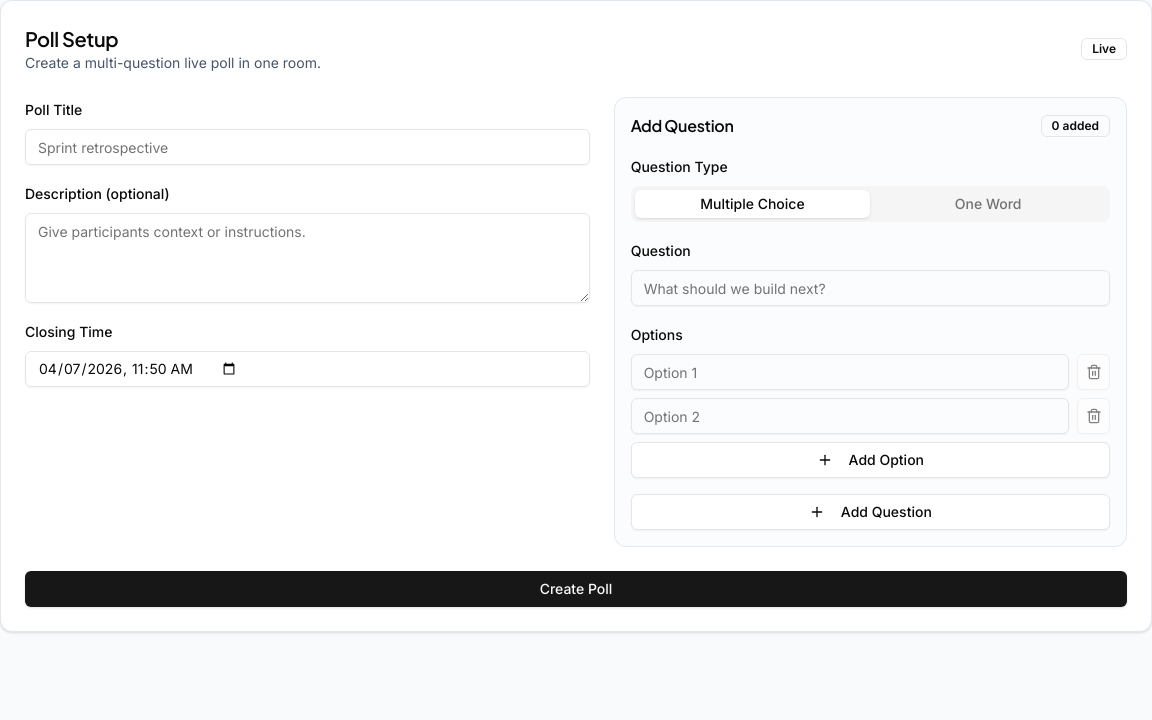
Test: PollCreateForm › validates question draft before adding
The width and height of the screenshot is (1152, 720).
Click the button "Add Question" at (870, 512), box [631, 494, 1110, 530]
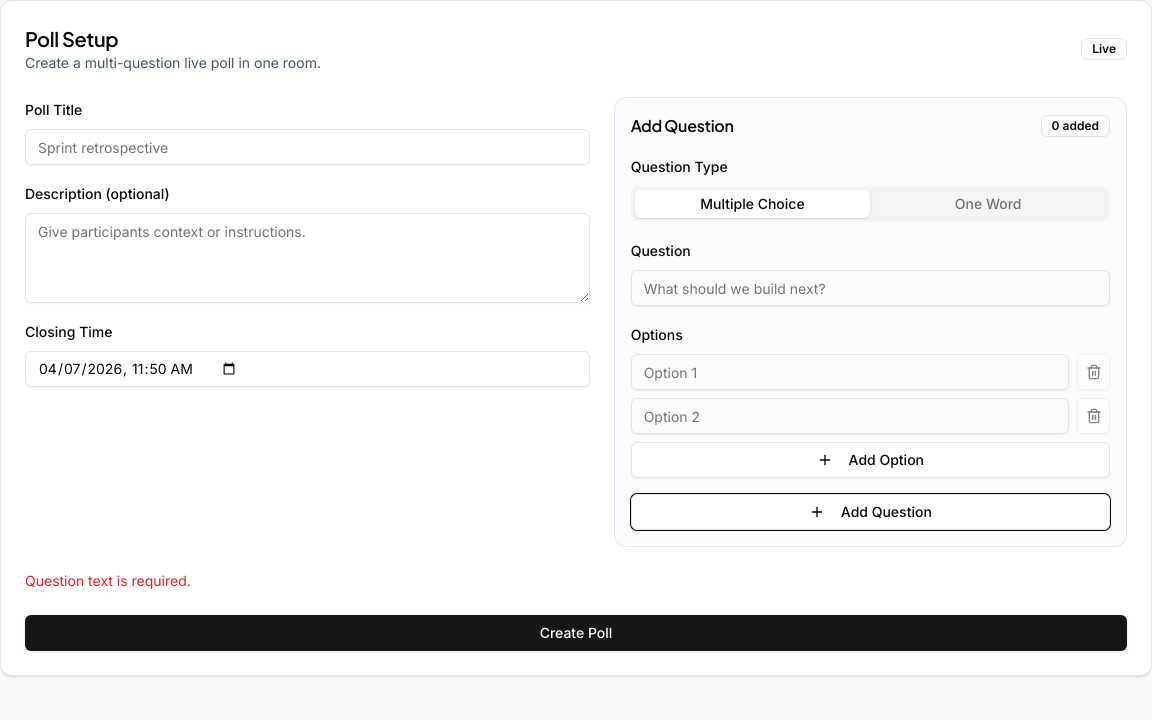
expect the text "Question text is required." is shown: met, box [25, 572, 191, 589]
Type "What should we build?" into the field labelled "Question" at (870, 288), box [631, 270, 1110, 306]
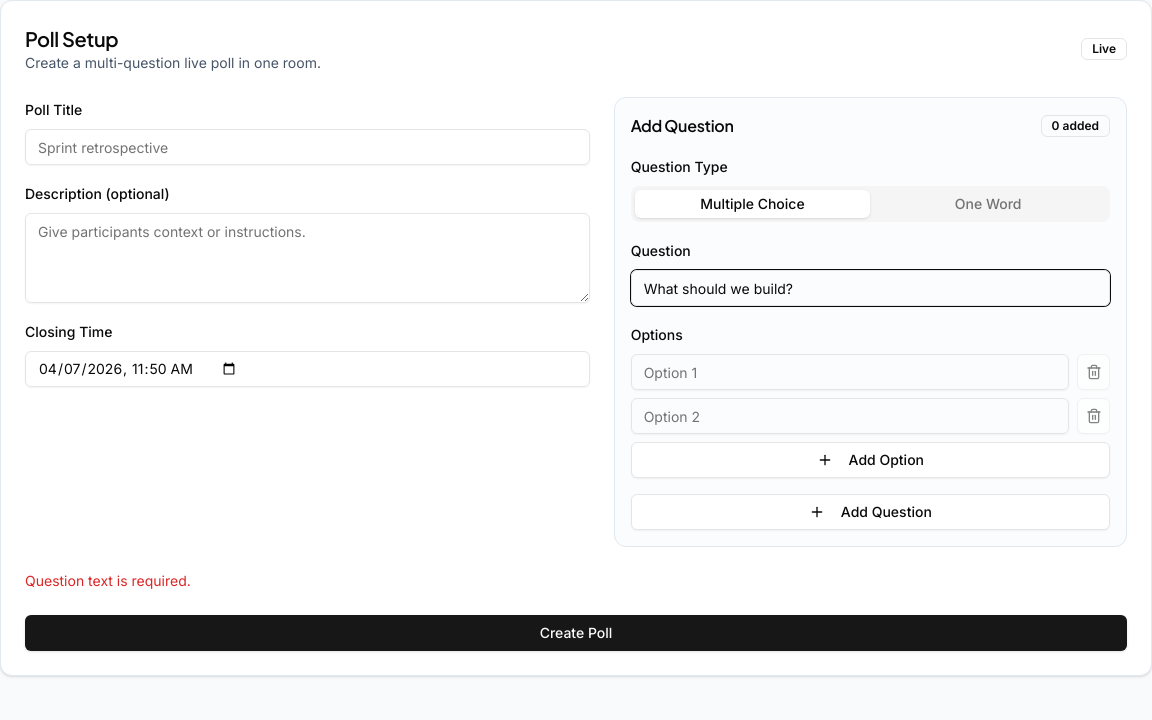
Clear the field with placeholder "Option 1" at (850, 372), box [631, 354, 1069, 390]
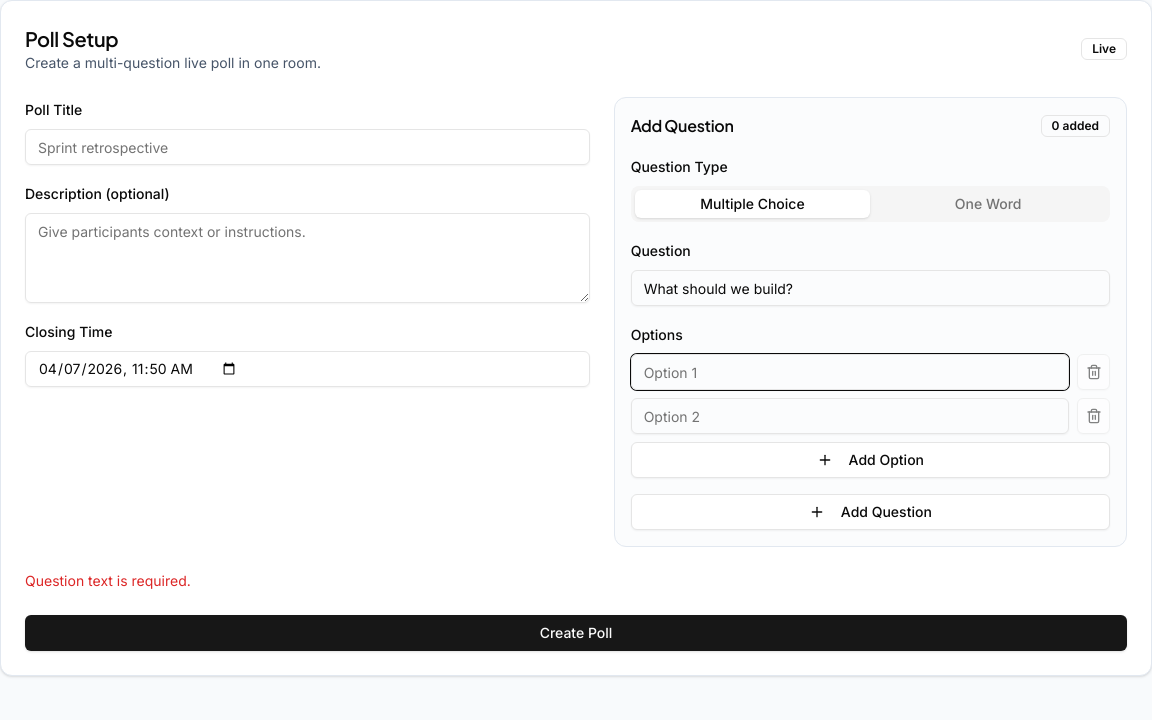
Clear the field with placeholder "Option 2" at (850, 416), box [631, 398, 1069, 434]
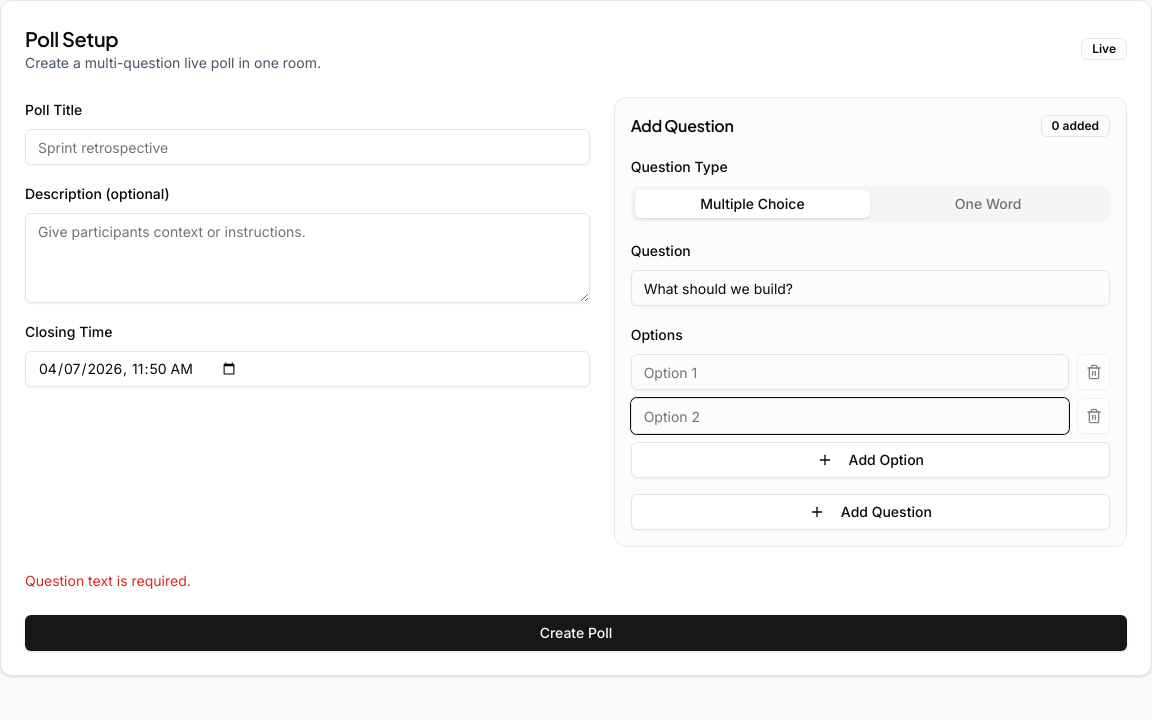
Click the button "Add Question" at (870, 512), box [631, 494, 1110, 530]
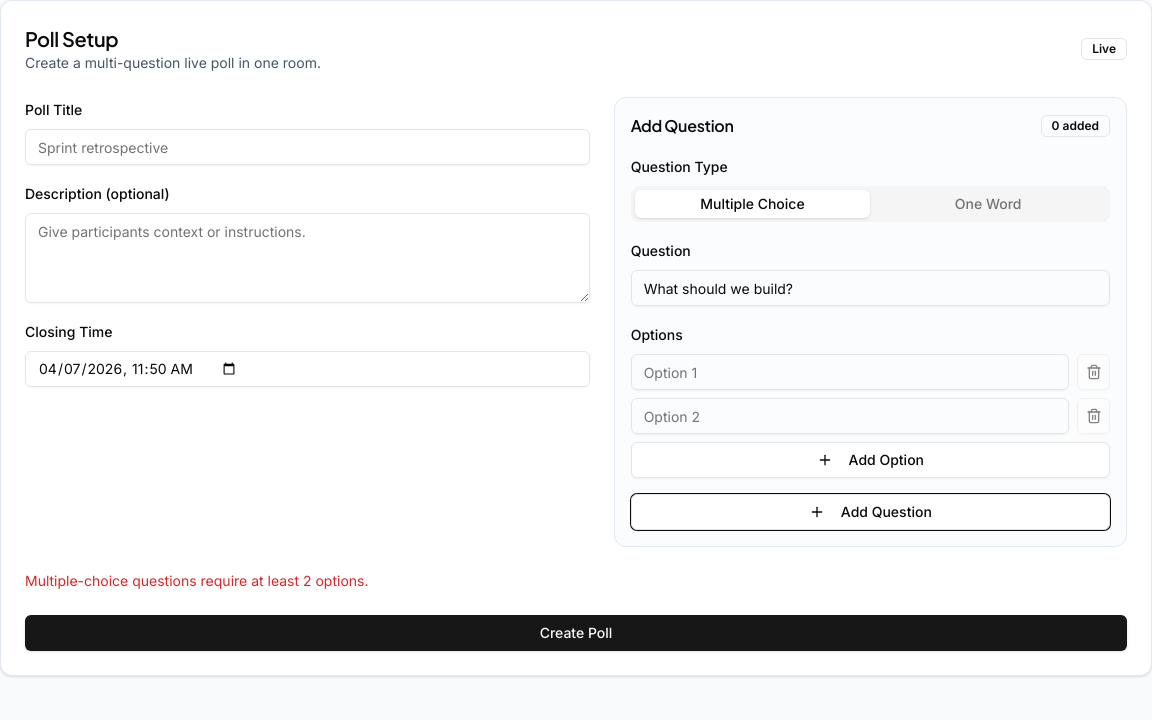
expect the text "Multiple-choice questions require at least 2 options." is shown: met, box [25, 572, 368, 589]
